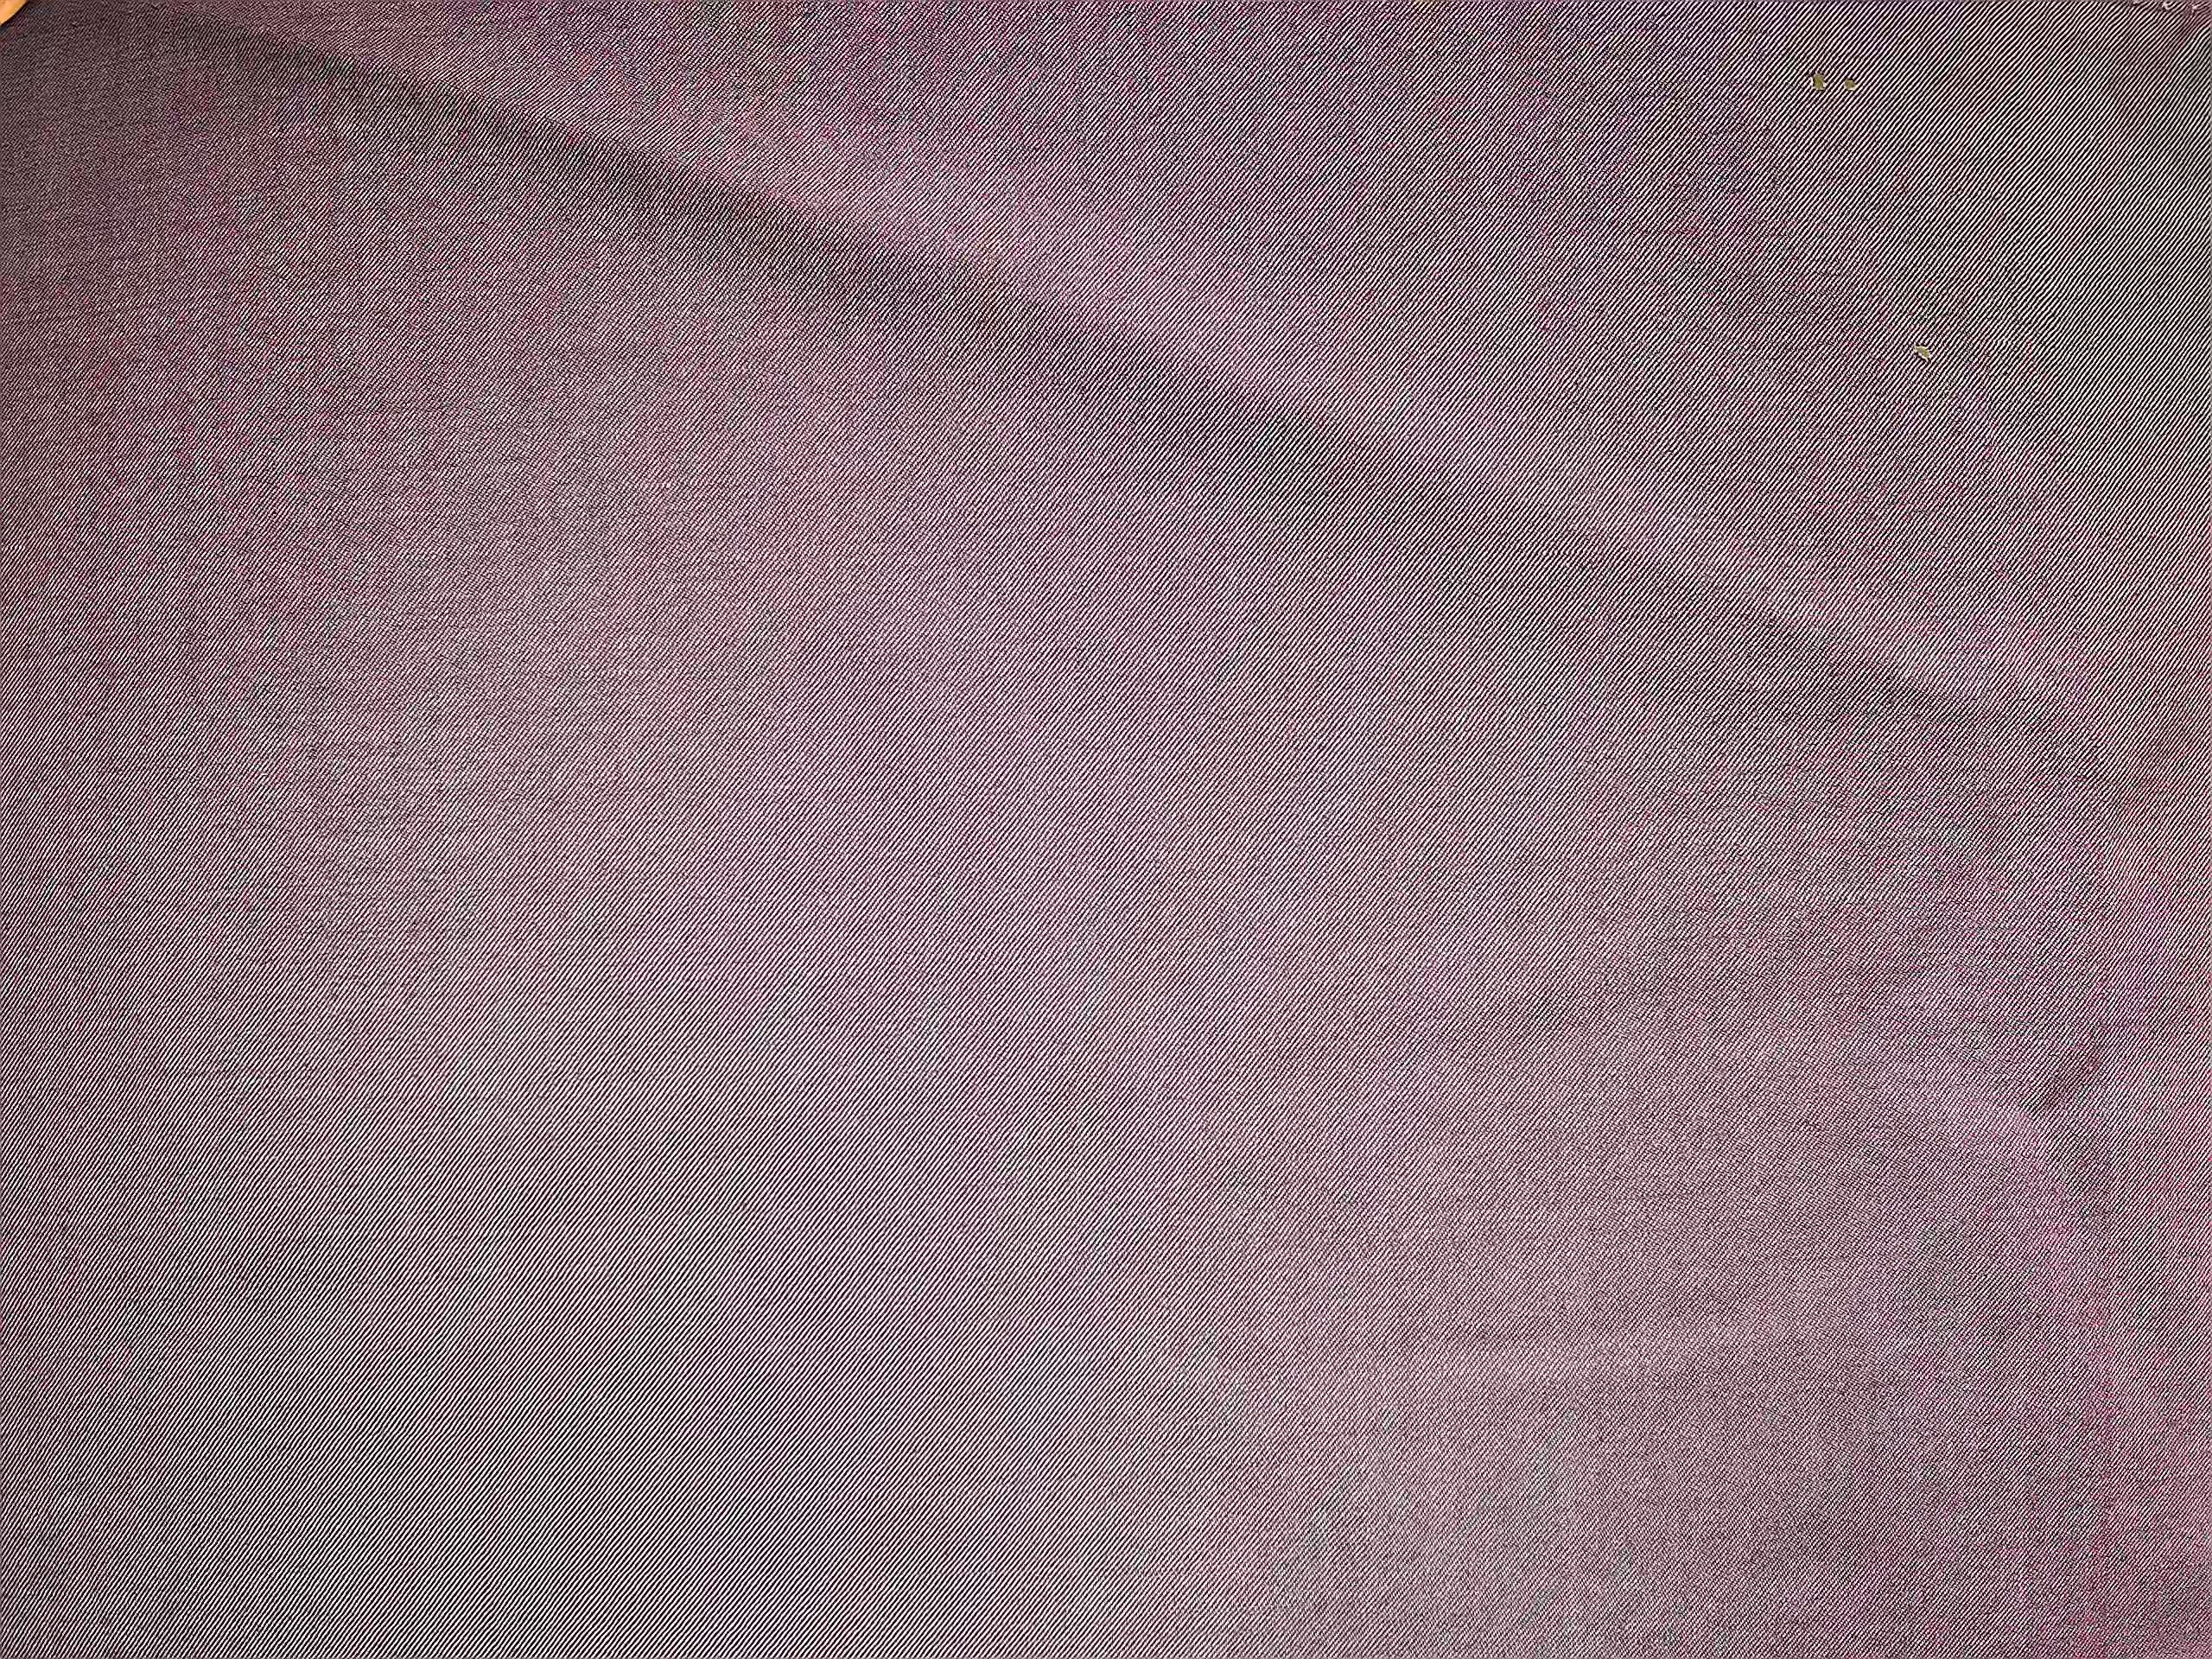others: (1799, 59, 1876, 101), (1900, 333, 1946, 373)
